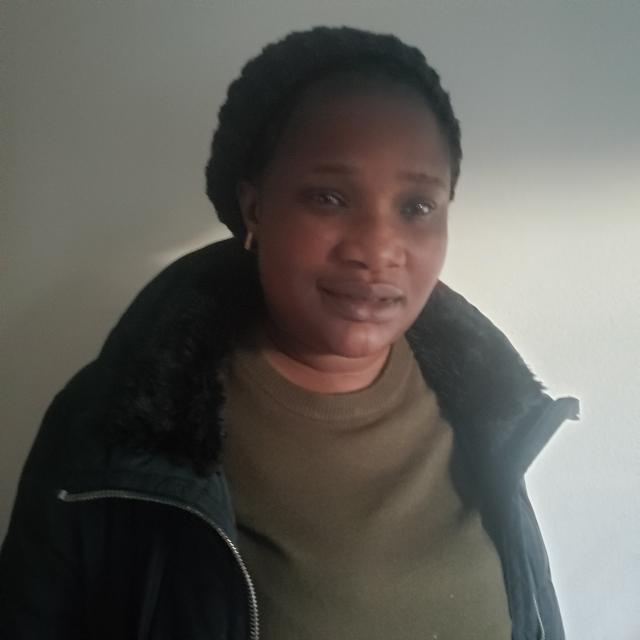sad: (231, 51, 465, 364)
